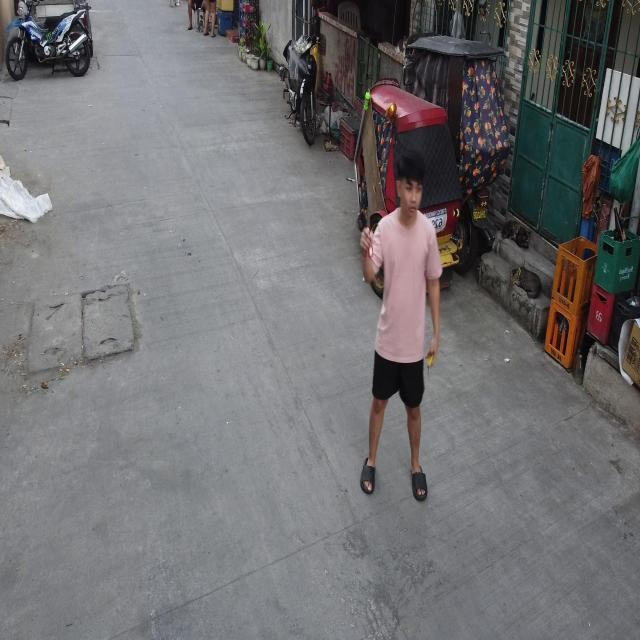scissor: (364, 208, 374, 260), (426, 354, 434, 379)
